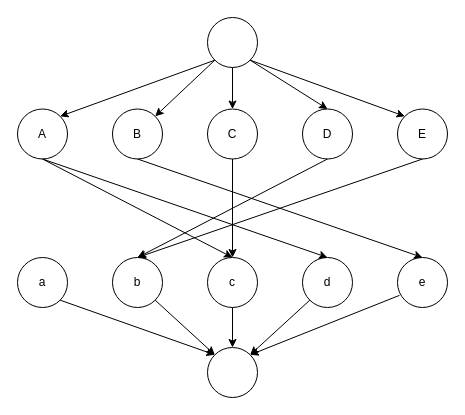
The diagram is 465 pixels wide and 415 high, and some of its shapes have lost their labels. The shapes that lost their labels are listed below. From the top down, each one's centre as x and y in pixels, then its label:
At [232,42]: "SRC".
At [232,372]: "DST".
